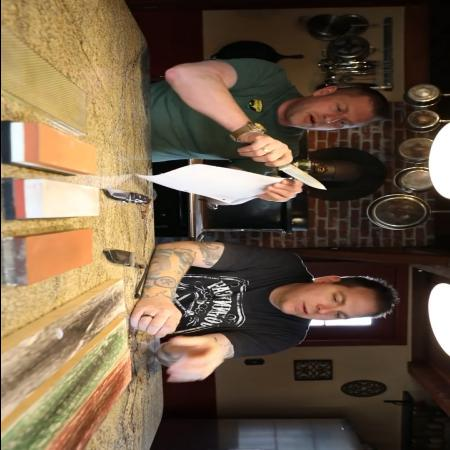long weapon: (248, 147, 336, 196)
